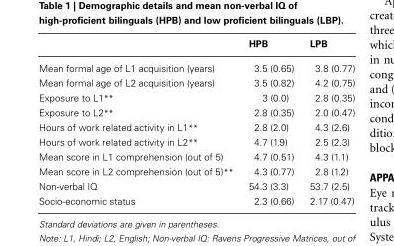table: (37, 37, 354, 206)
table column: (37, 37, 240, 206), (240, 37, 301, 206), (301, 37, 354, 206)
table column header: (37, 37, 354, 55)
table row: (37, 55, 354, 74), (37, 37, 354, 55), (37, 74, 354, 89), (37, 89, 354, 104), (37, 104, 354, 119), (37, 133, 354, 148), (37, 148, 354, 163), (37, 163, 354, 178), (37, 178, 354, 193), (37, 119, 354, 133), (37, 193, 354, 206)
